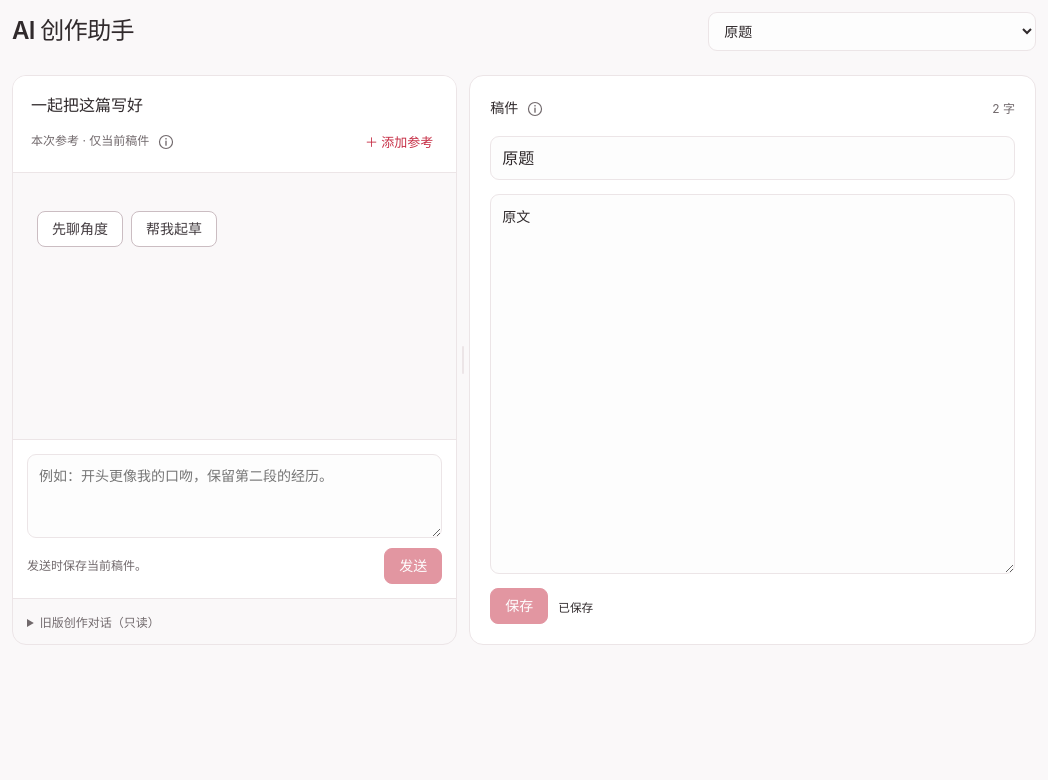
Scenario: keeps legacy messages in a collapsed read-only history without old adoption buttons
The image size is (1048, 780).
Click the heading "旧版创作对话（只读）" at (100, 622), box top-left (40, 615), bottom-right (160, 630)
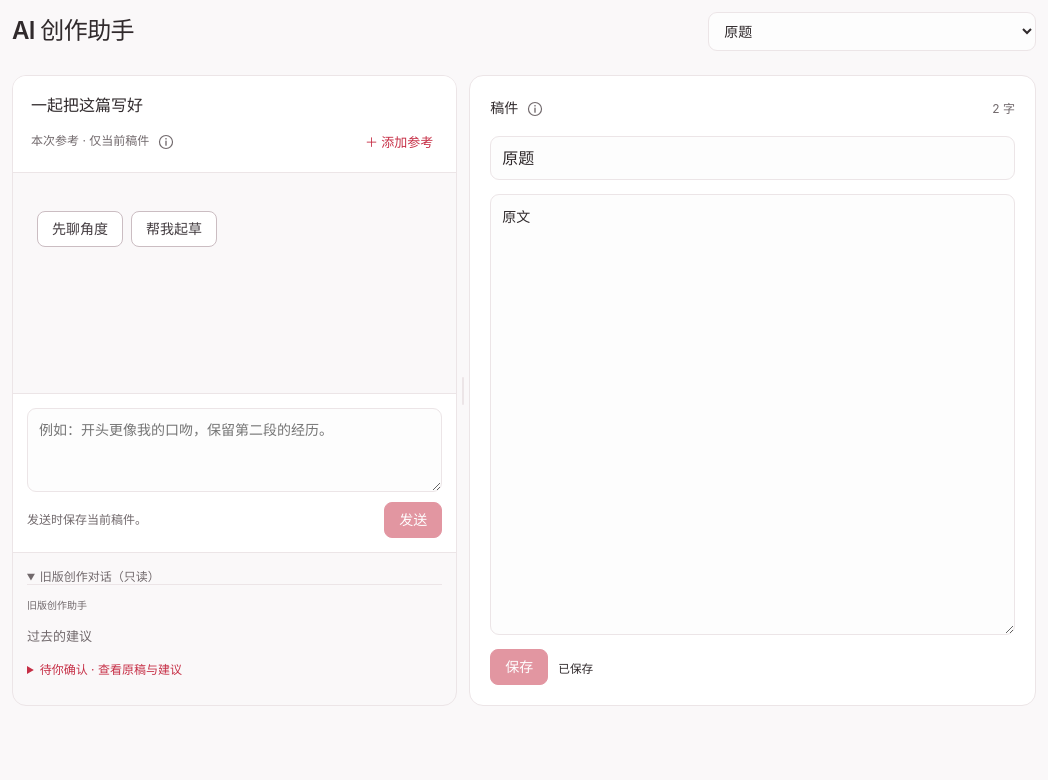
Expected: the text "过去的建议" is shown, top-left (27, 628), bottom-right (92, 644)
